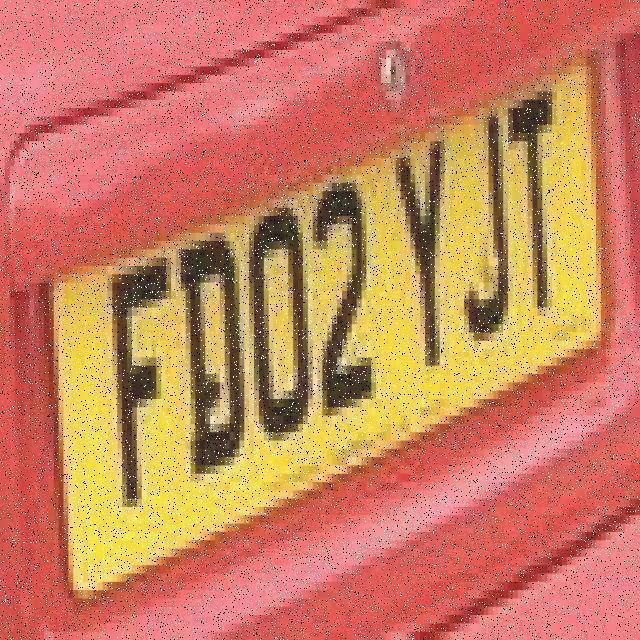license_plate: (35, 47, 632, 589)
